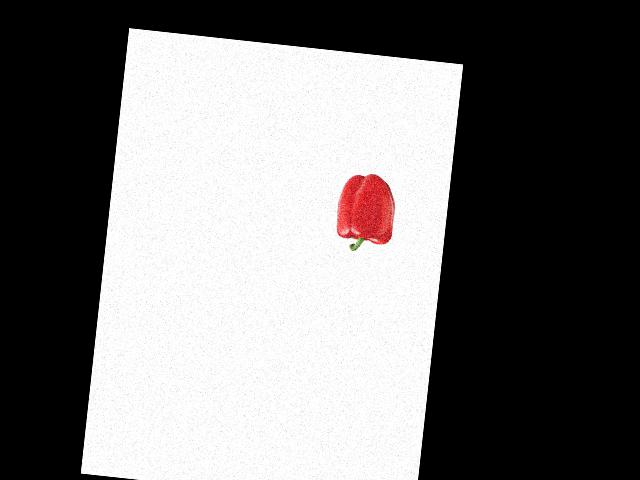bell_pepper: (330, 168, 402, 255)
